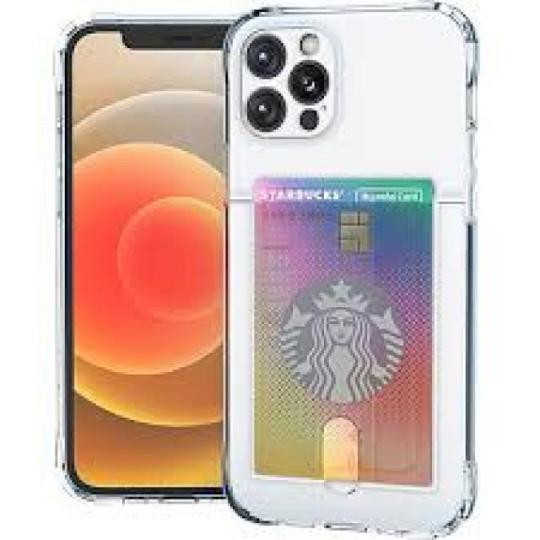phone: (227, 9, 473, 532)
